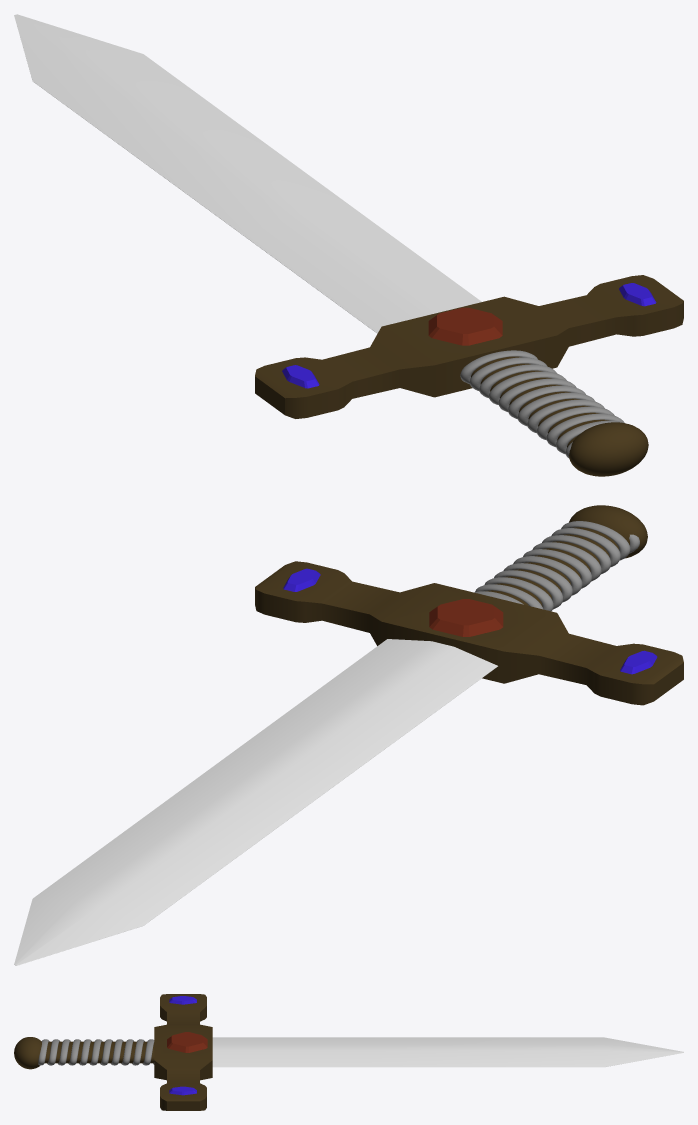
Rendered from Sword.glb.
3 views of the same model, one above another, from view 1: azimuth 30°, elevation 25°; view 2: azimuth 150°, elevation 25°; view 3: azimuth 270°, elevation 25° (orthographic). The views are drawn at different scales.
Parts seen in each view (by area): view 1: Box001, Box002, Helix001, Sphere001, Gengon001, Cylinder001; view 2: Box001, Box002, Helix001, Gengon001, Sphere001, Cylinder001; view 3: Box001, Box002, Helix001, Cylinder001, Sphere001, Gengon001, Gengon003, Gengon004.
Boxes of the visible parts, x1=… form: Box001: x1=14, y1=14, x2=481, y2=333; Box002: x1=255, y1=275, x2=683, y2=418; Helix001: x1=460, y1=350, x2=624, y2=458; Sphere001: x1=569, y1=422, x2=648, y2=476; Gengon001: x1=428, y1=307, x2=502, y2=345; Cylinder001: x1=471, y1=356, x2=608, y2=447; Box001: x1=14, y1=639, x2=497, y2=965; Box002: x1=255, y1=561, x2=683, y2=705; Helix001: x1=474, y1=521, x2=639, y2=611; Gengon001: x1=429, y1=599, x2=503, y2=636; Sphere001: x1=569, y1=505, x2=647, y2=558; Cylinder001: x1=485, y1=527, x2=618, y2=606; Box001: x1=212, y1=1037, x2=683, y2=1067; Box002: x1=154, y1=994, x2=212, y2=1110; Helix001: x1=38, y1=1039, x2=154, y2=1065; Cylinder001: x1=44, y1=1041, x2=154, y2=1063; Sphere001: x1=14, y1=1037, x2=41, y2=1069; Gengon001: x1=167, y1=1032, x2=207, y2=1052; Gengon003: x1=169, y1=1086, x2=196, y2=1095; Gengon004: x1=169, y1=996, x2=196, y2=1004.
Size of the model in its own units: 0.274 by 0.0314 by 0.7223.
